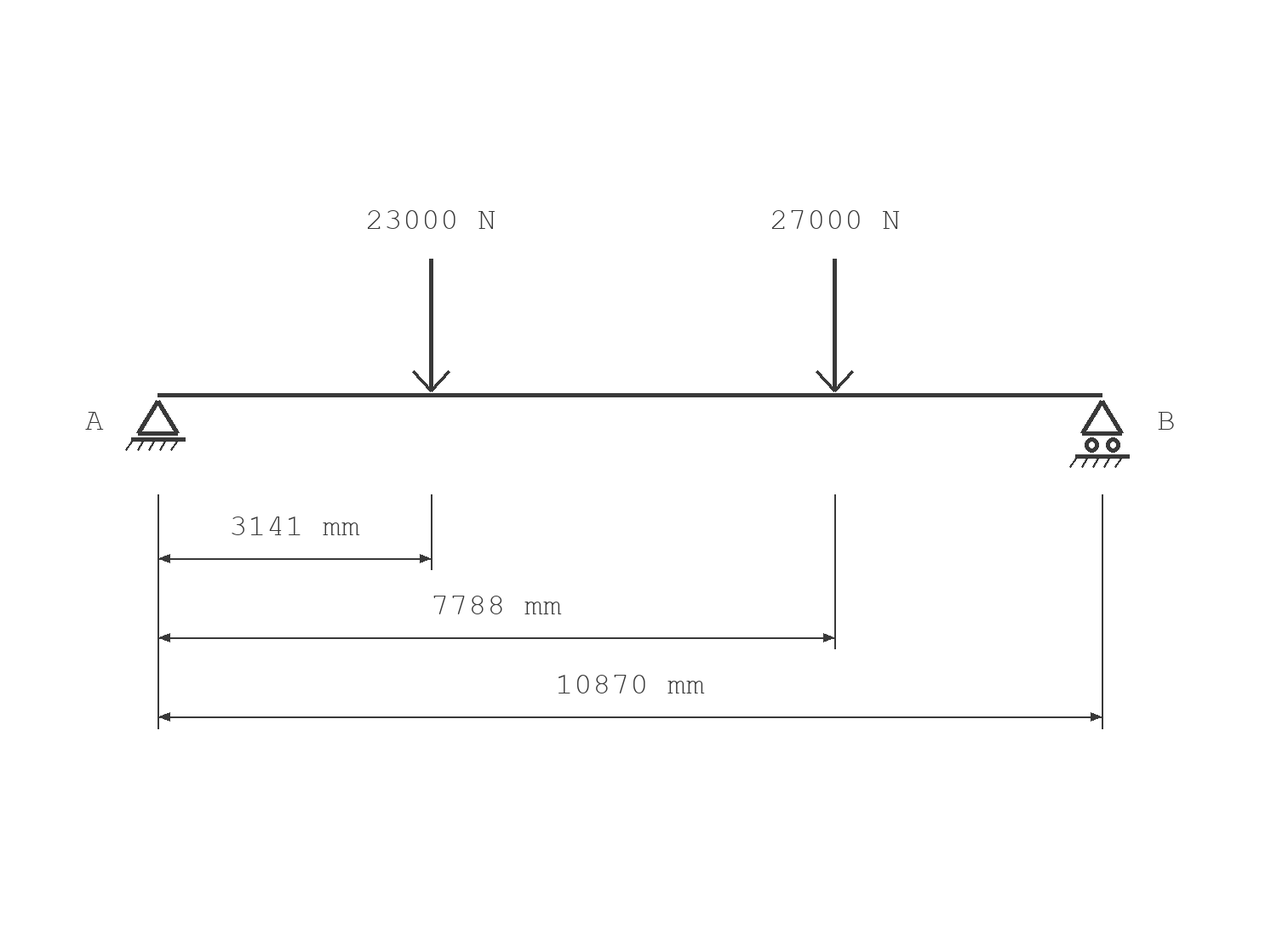pin_support: (125, 400, 186, 451)
point_load: (412, 259, 450, 392), (816, 259, 854, 392)
roller_support: (1069, 400, 1130, 468)
